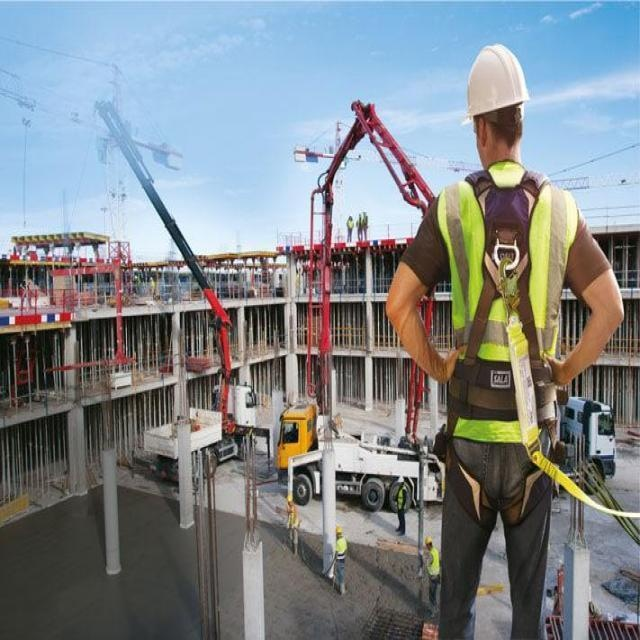Arnes_seguridad: (445, 158, 564, 419)
